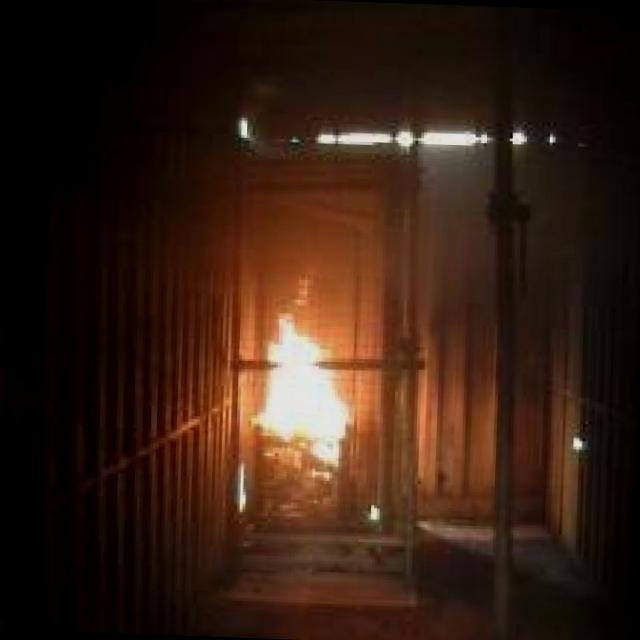fire: (248, 296, 362, 477)
